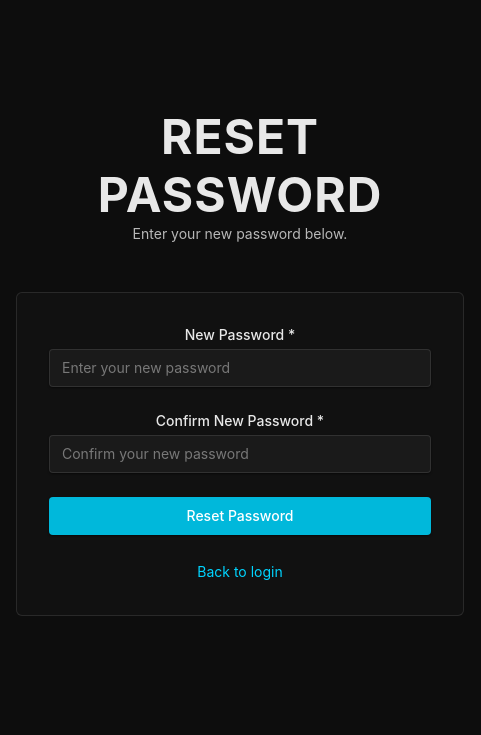
ResetPasswordPage › Form Submission › should show success message and redirect to login after successful reset
Type "NewPassword456!" into the password field labelled "New Password *" at (240, 368), box [49,349,431,387]
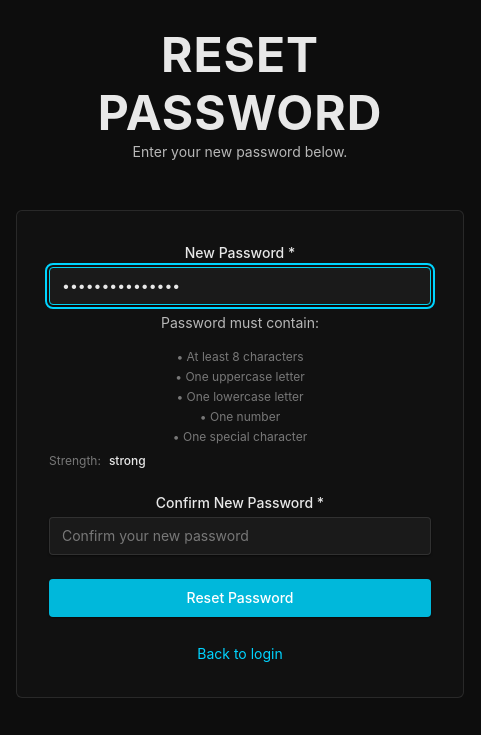
Type "NewPassword456!" into the password field labelled "Confirm New Password *" at (240, 536), box [49,517,431,555]
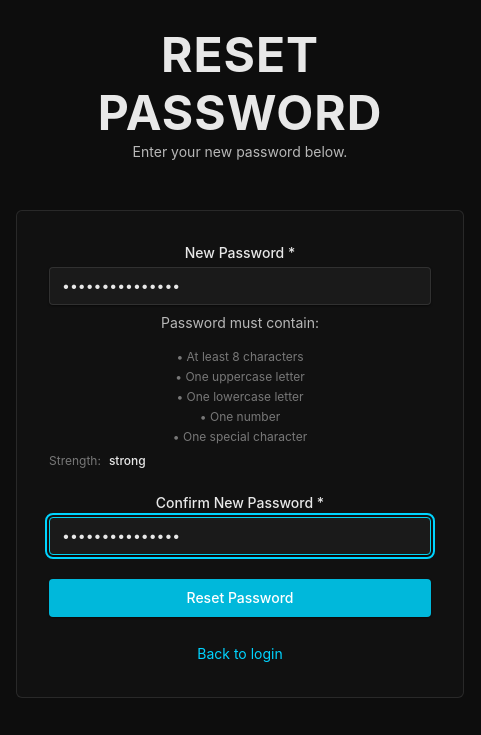
Click the button "Reset Password" at (240, 598), box [49,579,431,617]
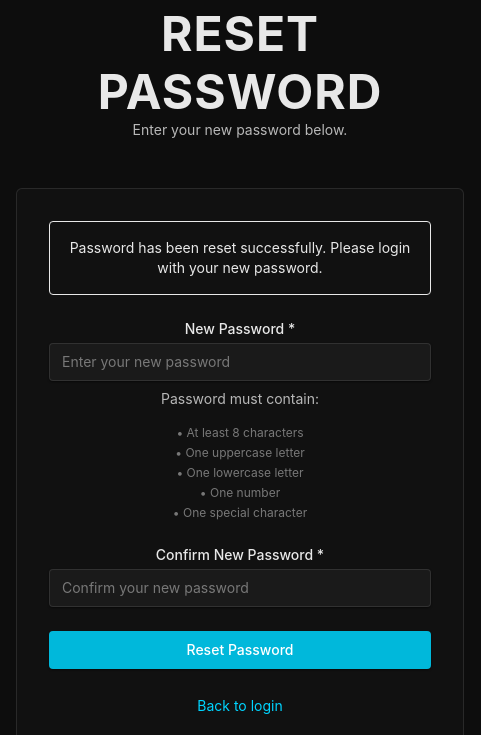
Expected: the text "Password has been reset successfully" is shown, [70,239,410,276]
